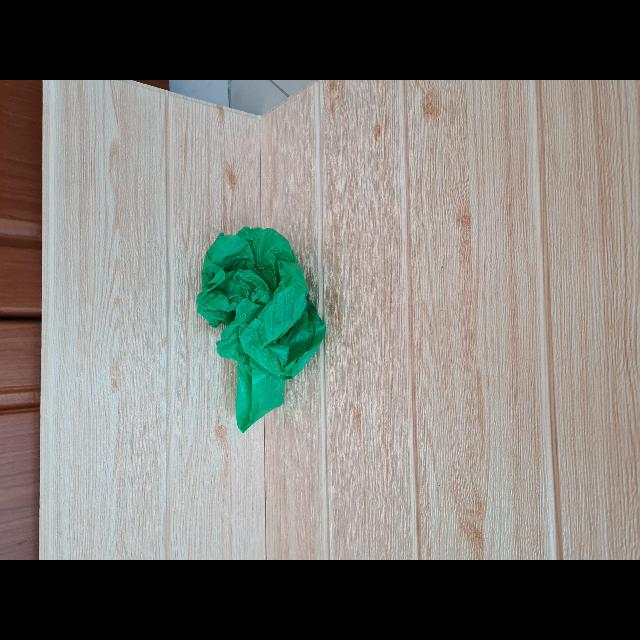sacola plástica: (197, 226, 329, 434)
